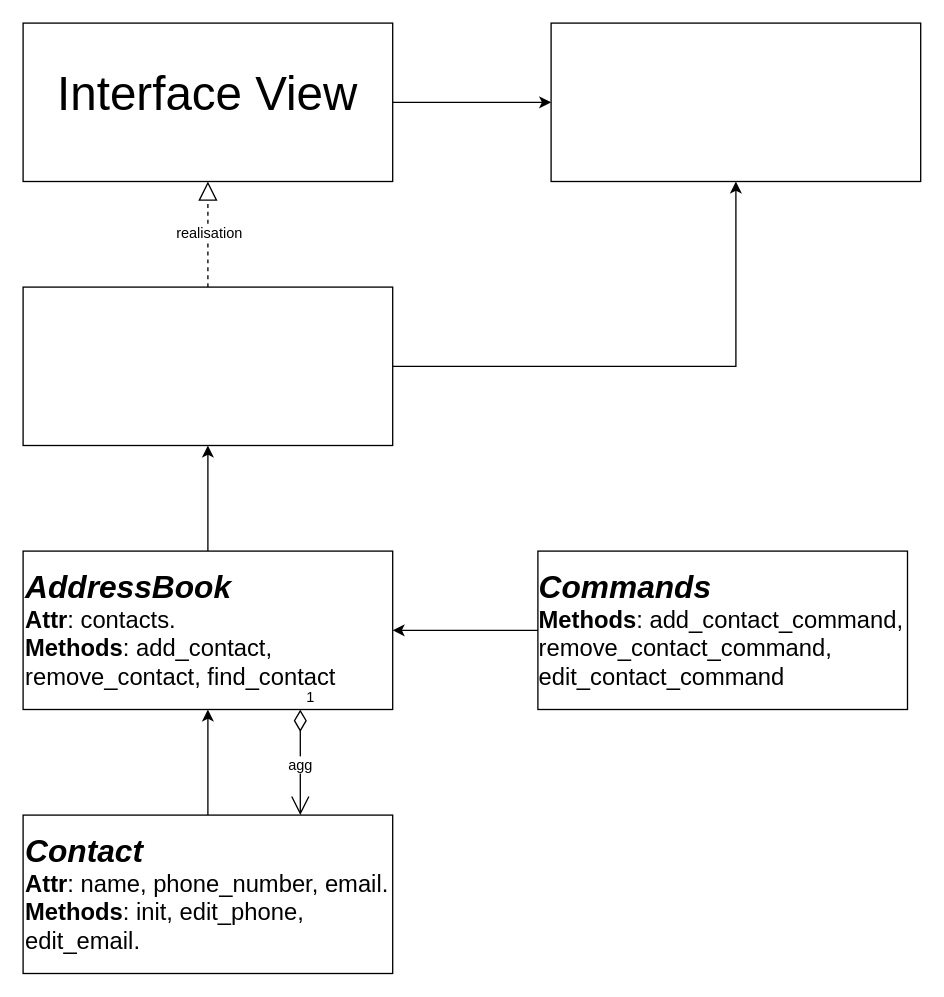
The diagram is 944 pixels wide and 997 high, and some of its shapes have lost their labels. Here are the shapes that lost their labels. From the top down, the centre of each, then its label:
At point (735, 102): "Utils Methods : validate_email, format_phone_number, parse_user_input".
At point (207, 366): "ConsoleView Methods : display_contacts, get_user_input, show_message".
